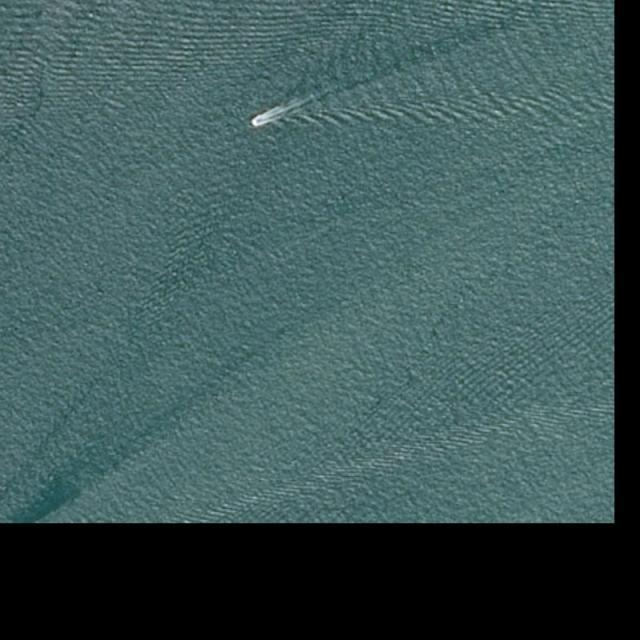ship: (254, 118, 264, 126)
